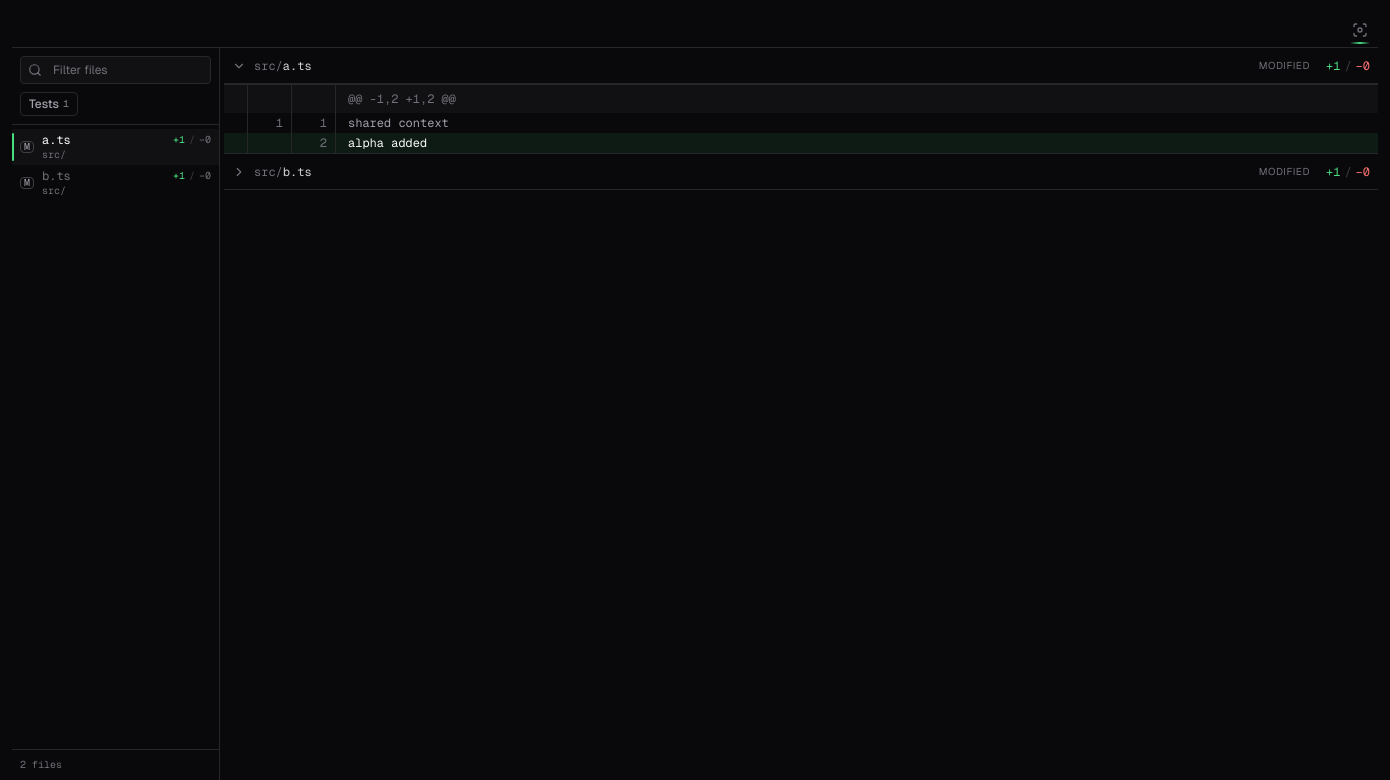
Test case: DiffView › a hidden file kind leaves the list and can be cleared again
Click the button with aria-label "Tests, 1 file, shown": x=49, y=104 [20, 92, 78, 116]
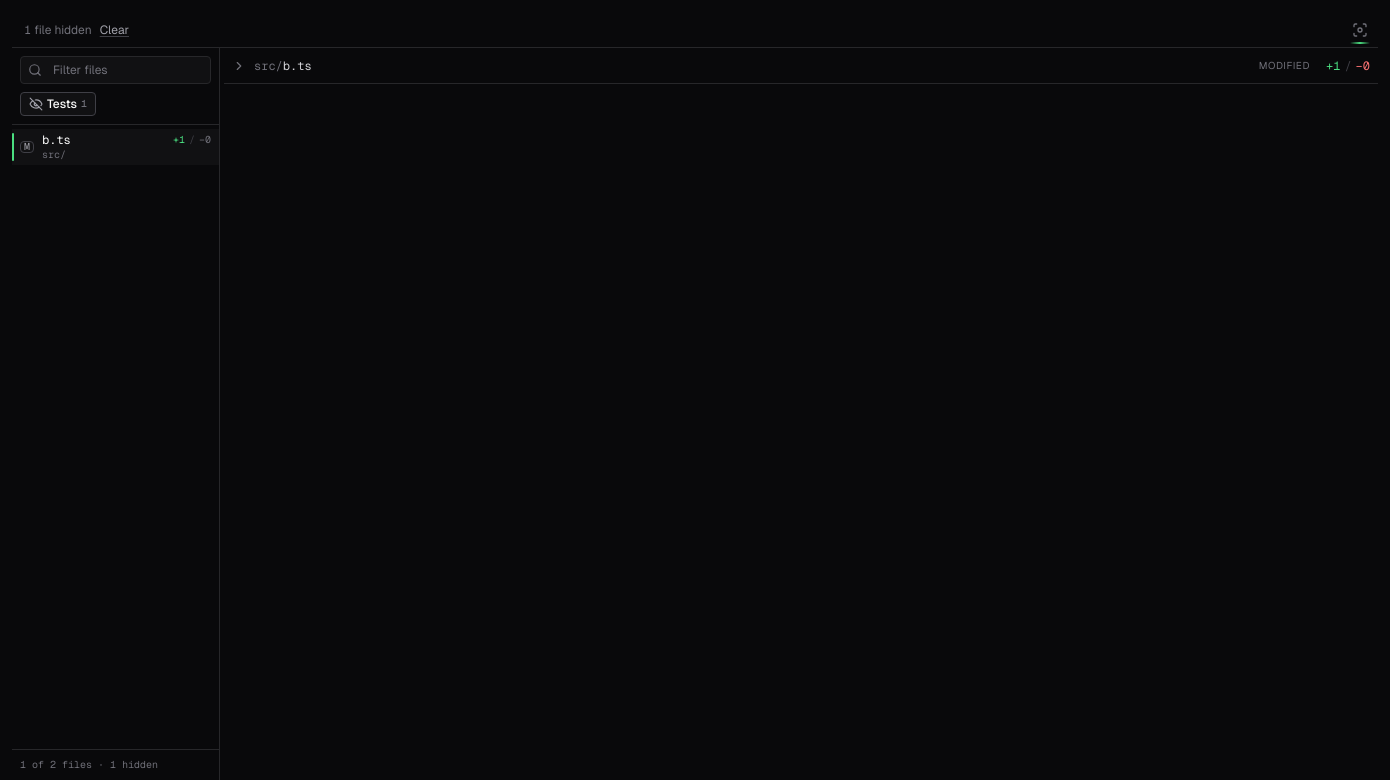
Now the button "a.ts" is gone
Now the text "alpha added" is gone
Now the text "1 file hidden Clear" is shown, box [24, 22, 129, 38]
Click the button "Clear": x=114, y=30 [100, 22, 129, 38]
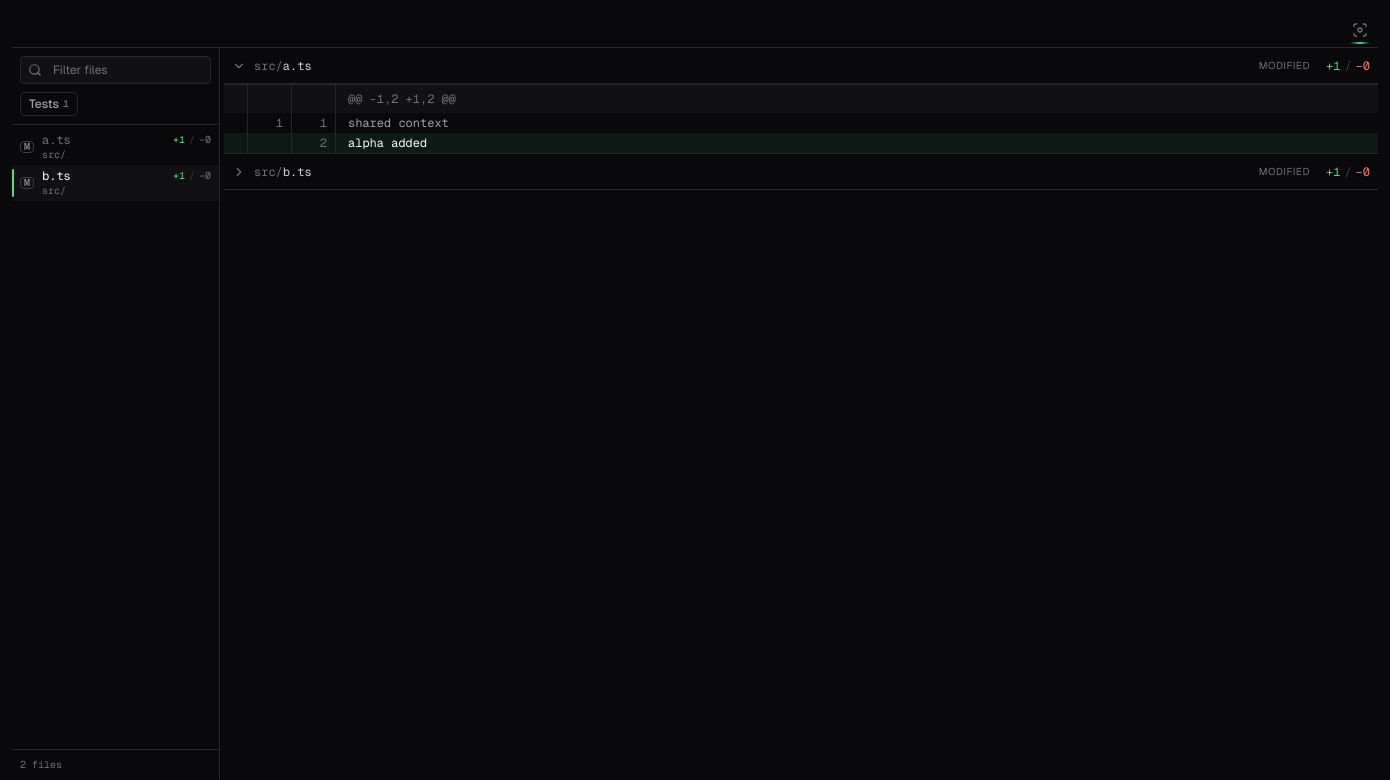
Expected: the text "2 files" is shown, [12, 749, 219, 779]
Now the 2nd text "a.ts" is shown, box [42, 132, 71, 148]
